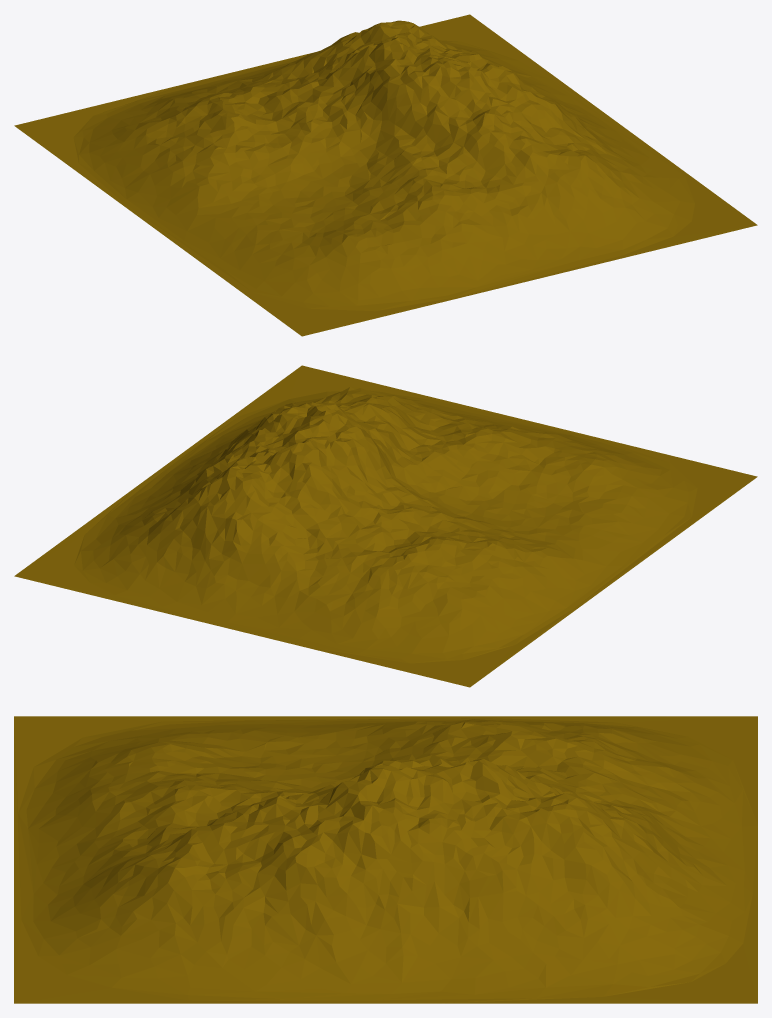
The model's file is venus_terrain.fbx.
3 renders of one model, top to bottom at view 1: azimuth 30°, elevation 25°; view 2: azimuth 150°, elevation 25°; view 3: azimuth 270°, elevation 25°, orthographic. The views are drawn at different scales.
Parts seen in each view (by area): view 1: Landscape; view 2: Landscape; view 3: Landscape.
Part boxes in pixels (left/top/right/bottom): Landscape: left=14, top=14, right=757, bottom=336; Landscape: left=14, top=365, right=757, bottom=687; Landscape: left=14, top=716, right=757, bottom=1003.
Bounding box in the file's own units: 1557 × 327 × 1703.
